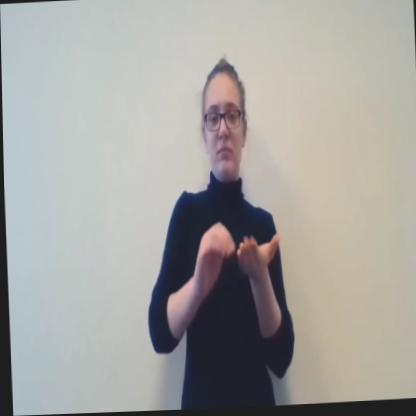ExcuseMe: (135, 50, 296, 412)
